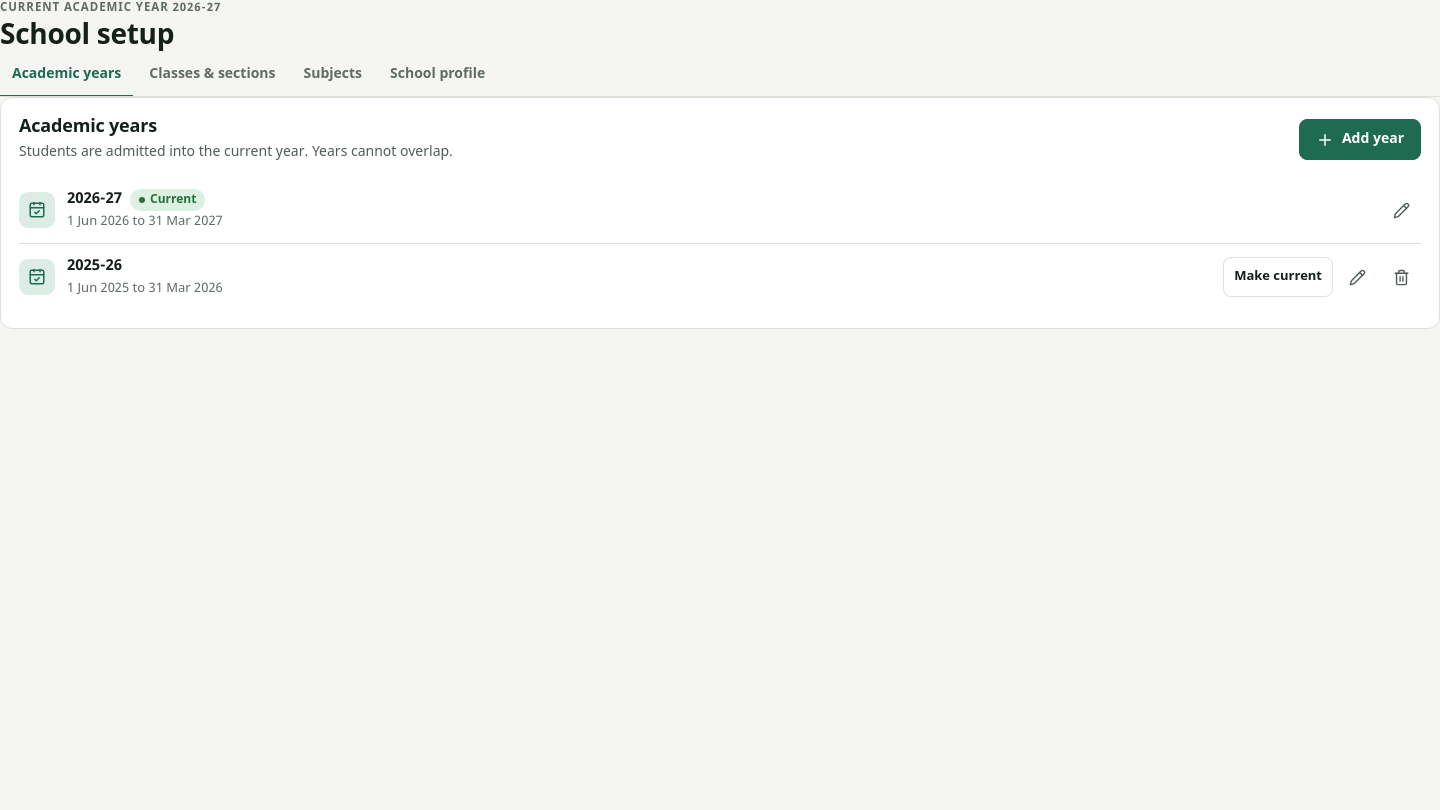
Test: SetupView › shows the API's reason when a year overlaps another
expect the list with test id "years-list" is shown: met, box [19,177,1421,310]
Step 1. Click the button "Add year" → (1360, 140), box [1299,119,1421,160]
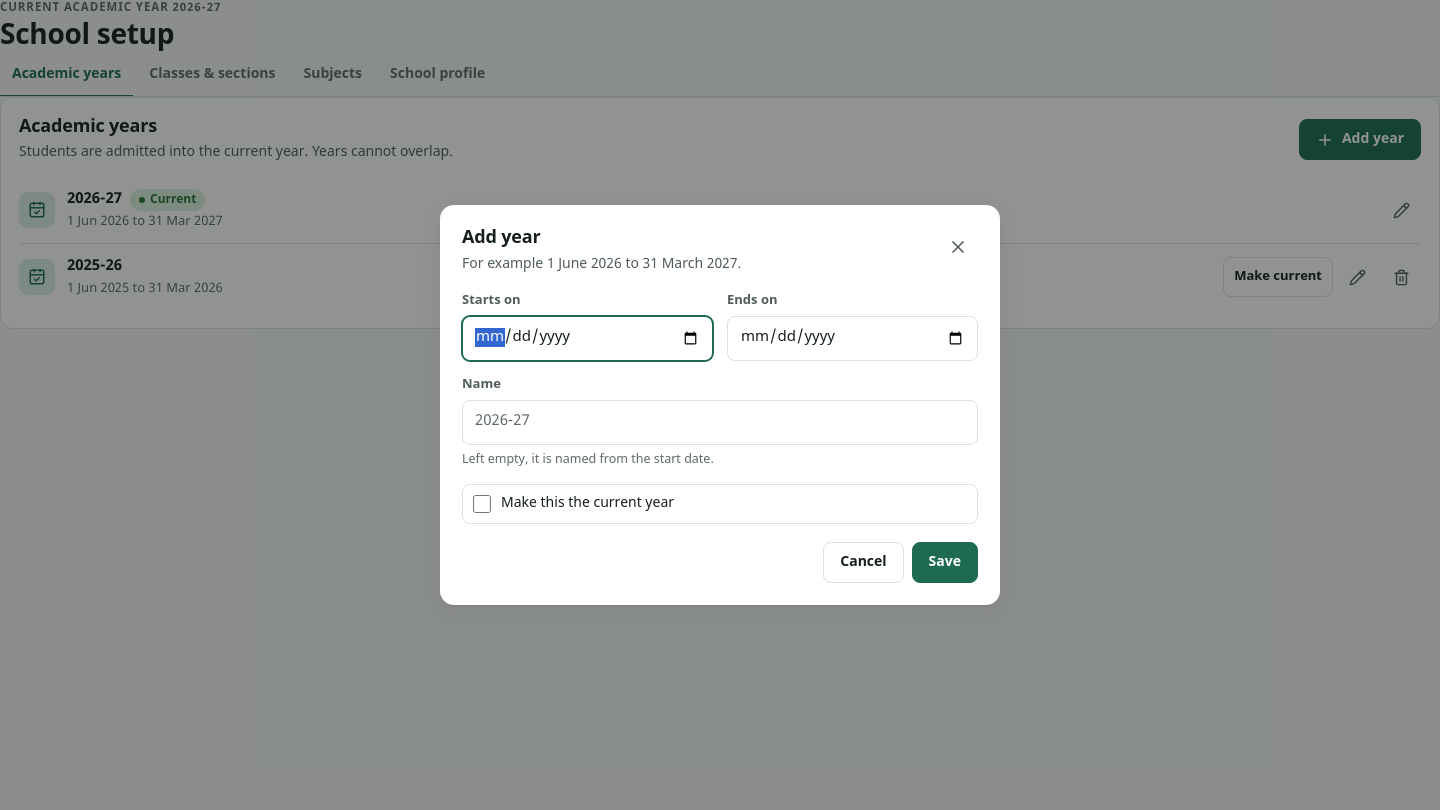
Step 2. Type "2026-09-01" into the date field labelled "Starts on" → (588, 339), box [462,316,713,361]
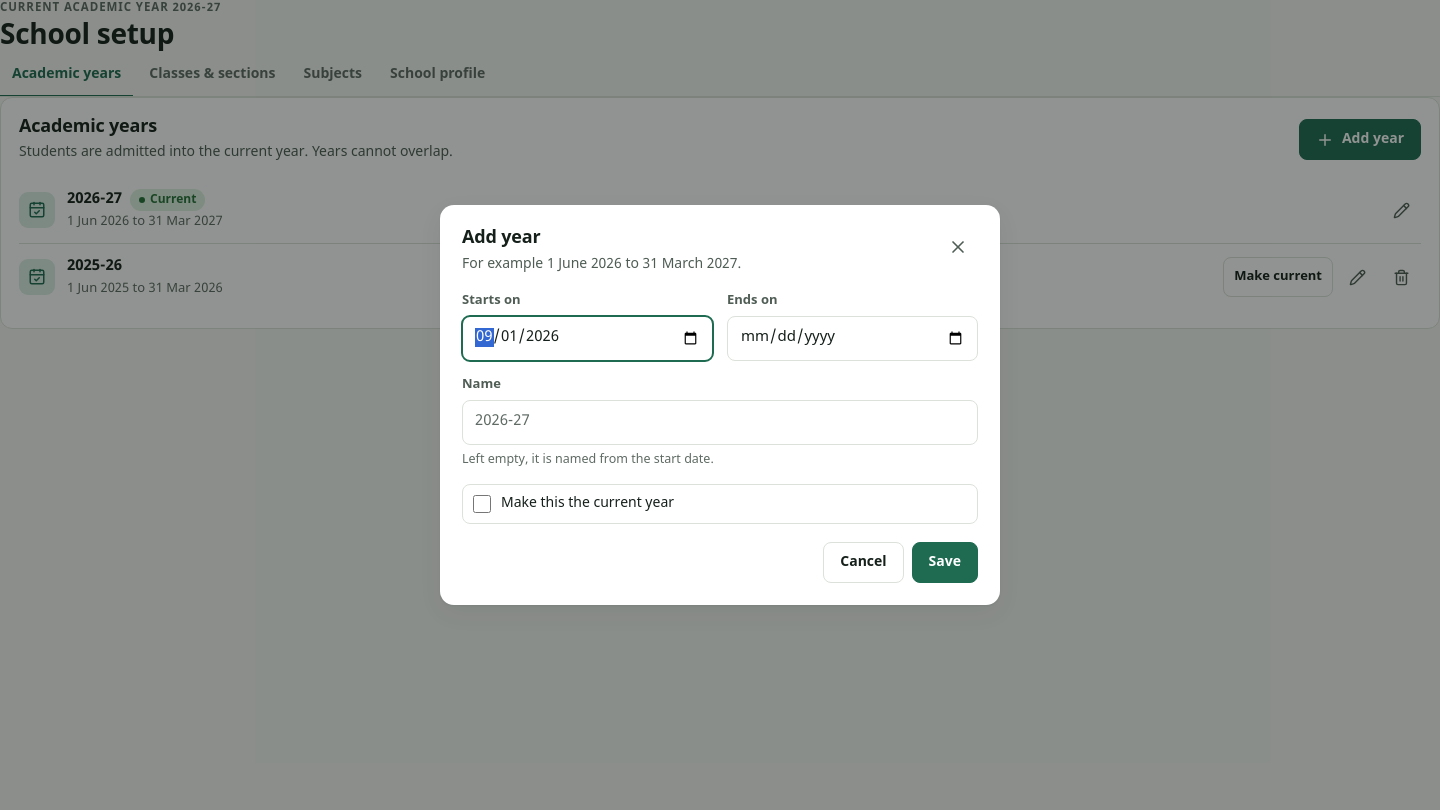
Step 3. Type "2027-08-31" into the date field labelled "Ends on" → (852, 339), box [727,316,978,361]
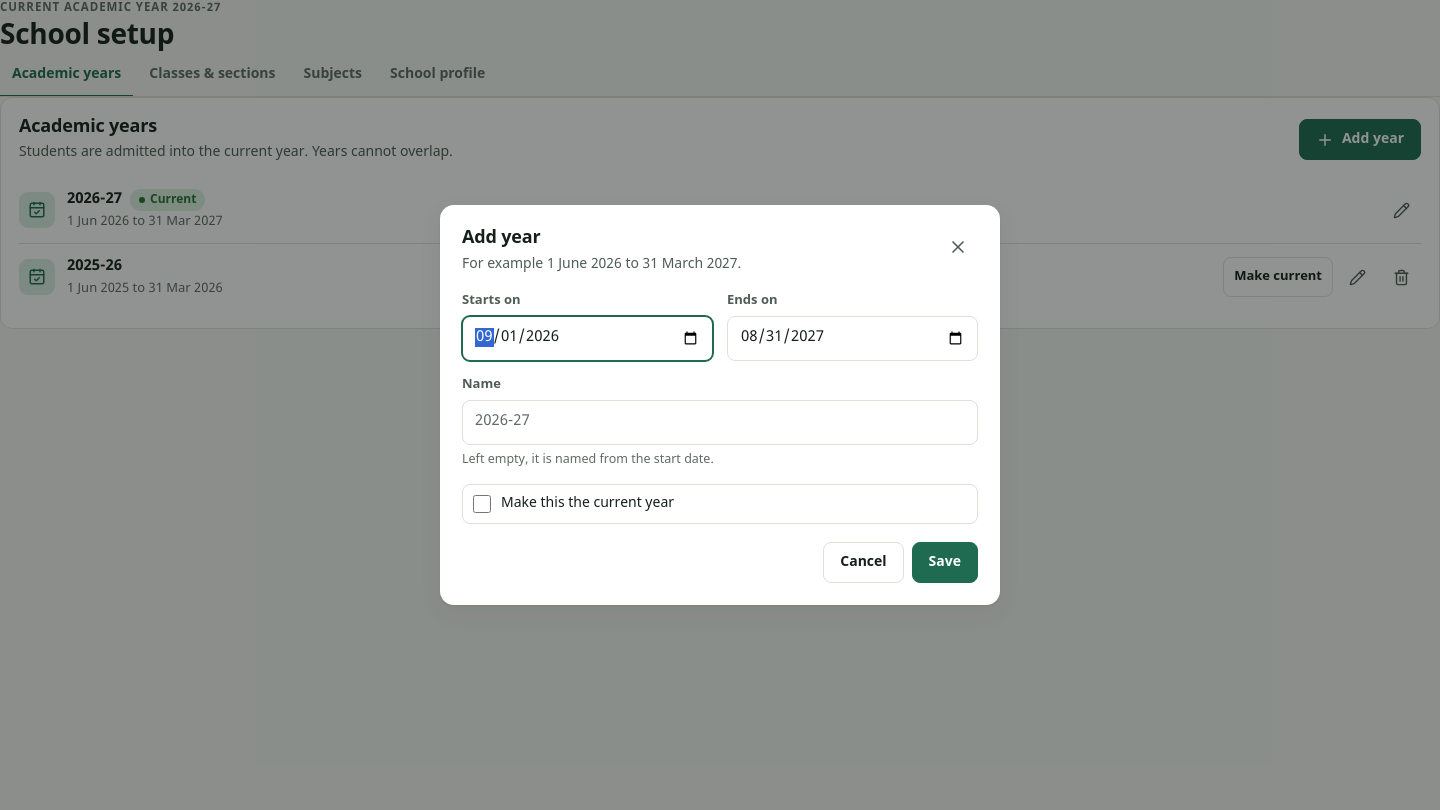
Step 4. Click the button "Save" → (945, 562), box [912,542,978,583]
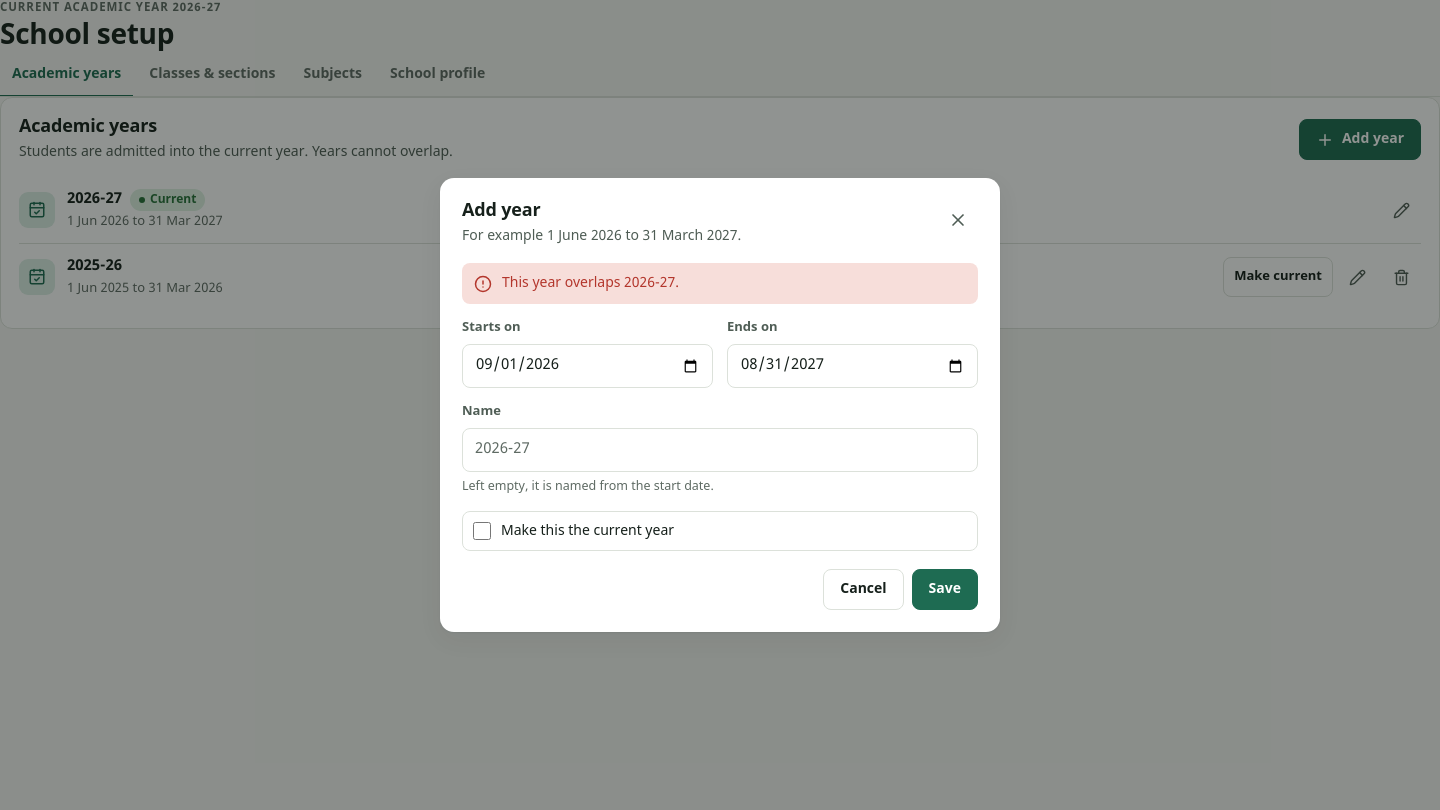
expect the text "This year overlaps 2026-27." is shown: met, box [502,273,679,294]
